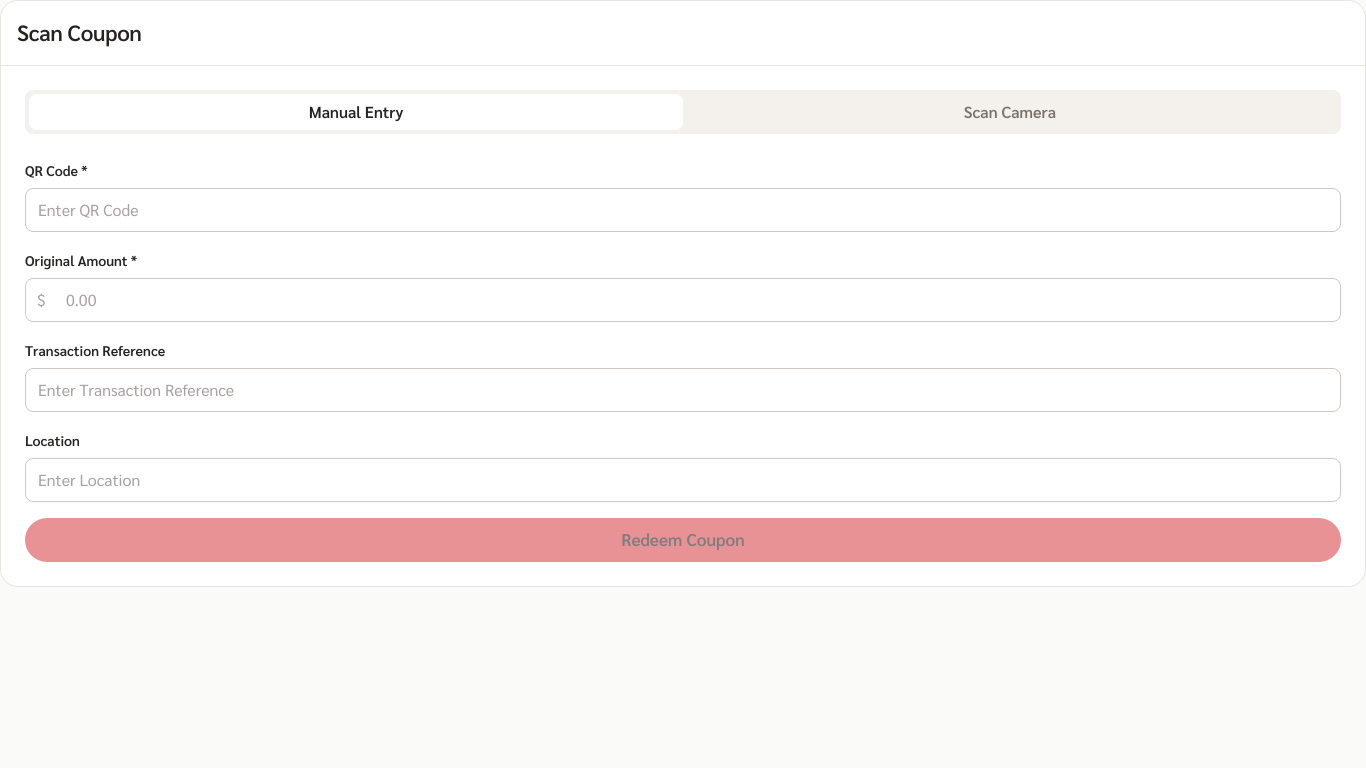
Test: CouponScanner › Validation Result Display › should handle validation error
Type "QR123456" into the field labelled "QR Code *" at [683, 210], box [25,188,1341,232]
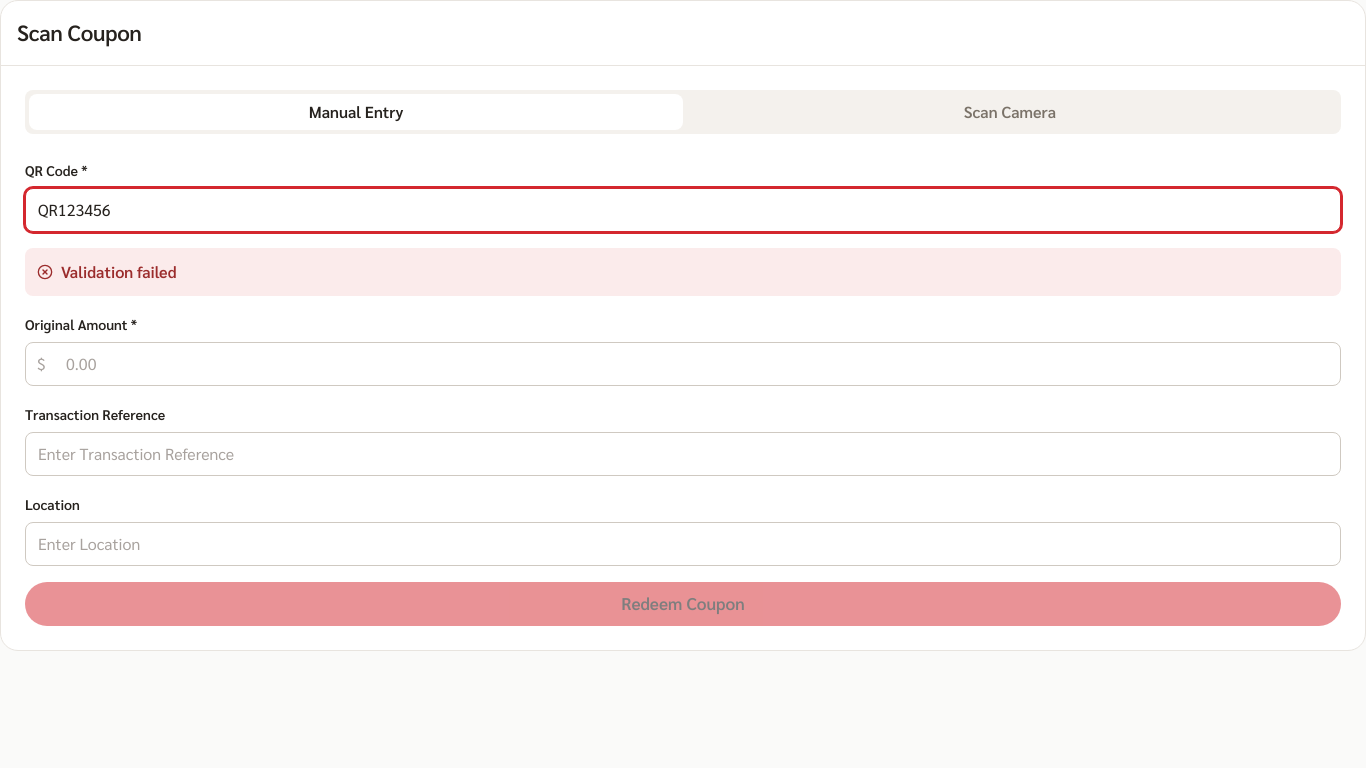
Check: the text "Validation failed" is shown, box [61,260,176,284]
